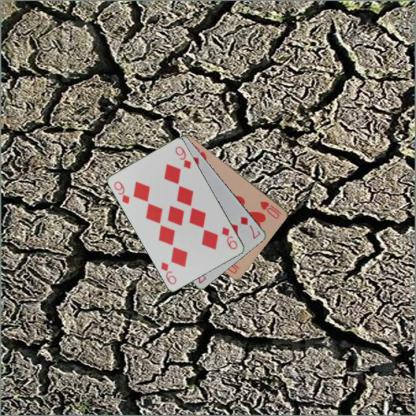10h: (258, 198, 283, 220)
7d: (238, 214, 262, 240)
9d: (219, 224, 239, 251), (112, 179, 131, 205)
